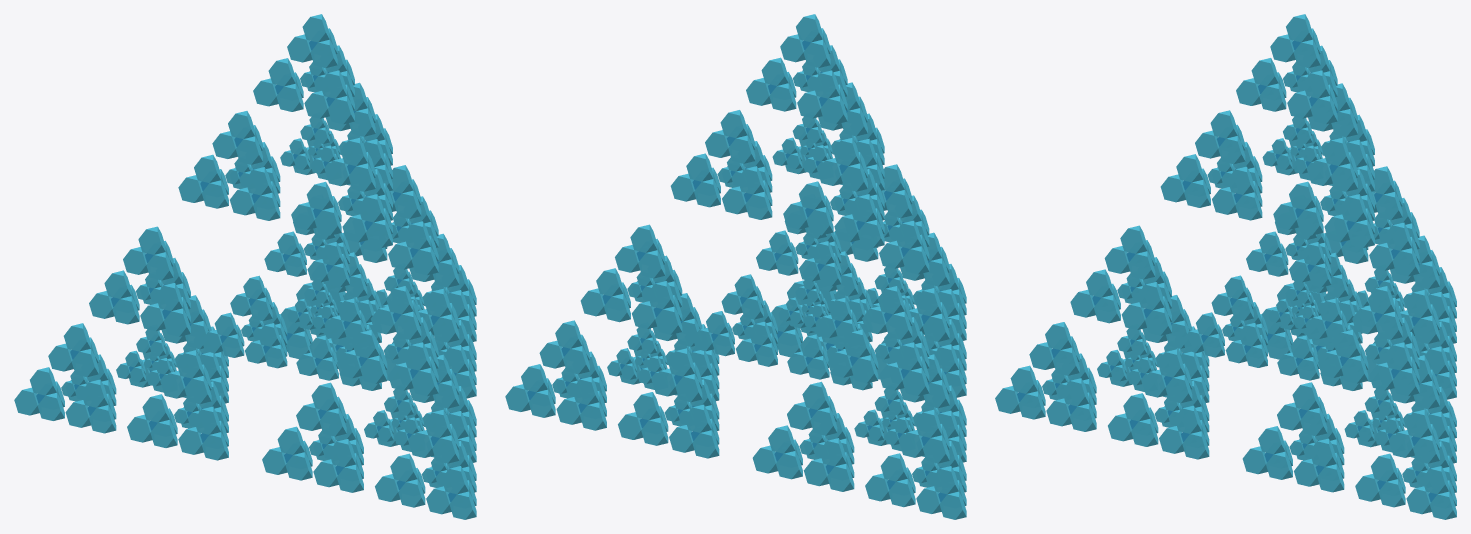
Rendered from fractaltruncatedtetrahedron4.glb.
The picture shows the model from 3 angles, left to right: view 1: azimuth 30°, elevation 25°; view 2: azimuth 150°, elevation 25°; view 3: azimuth 270°, elevation 25°; orthographic projection.
Bounding box in the file's own units: 8.4 × 6.88 × 7.33.
